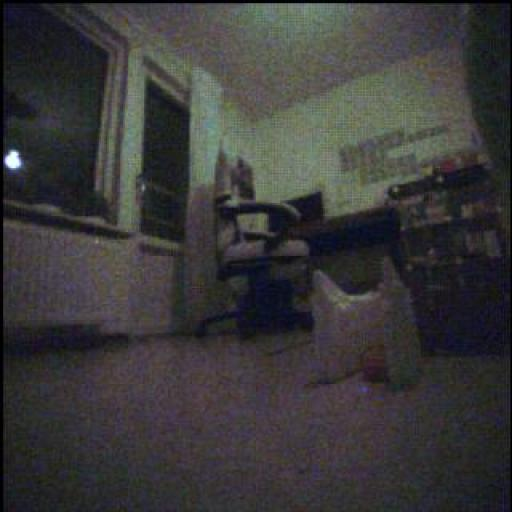basket: (358, 342, 388, 383)
